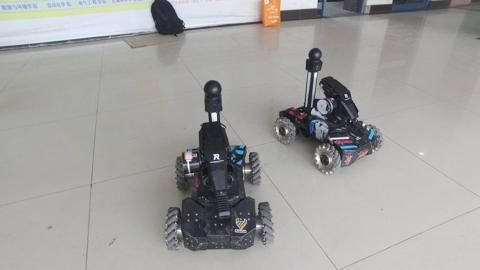chariot: (160, 78, 278, 252), (273, 46, 391, 180)
